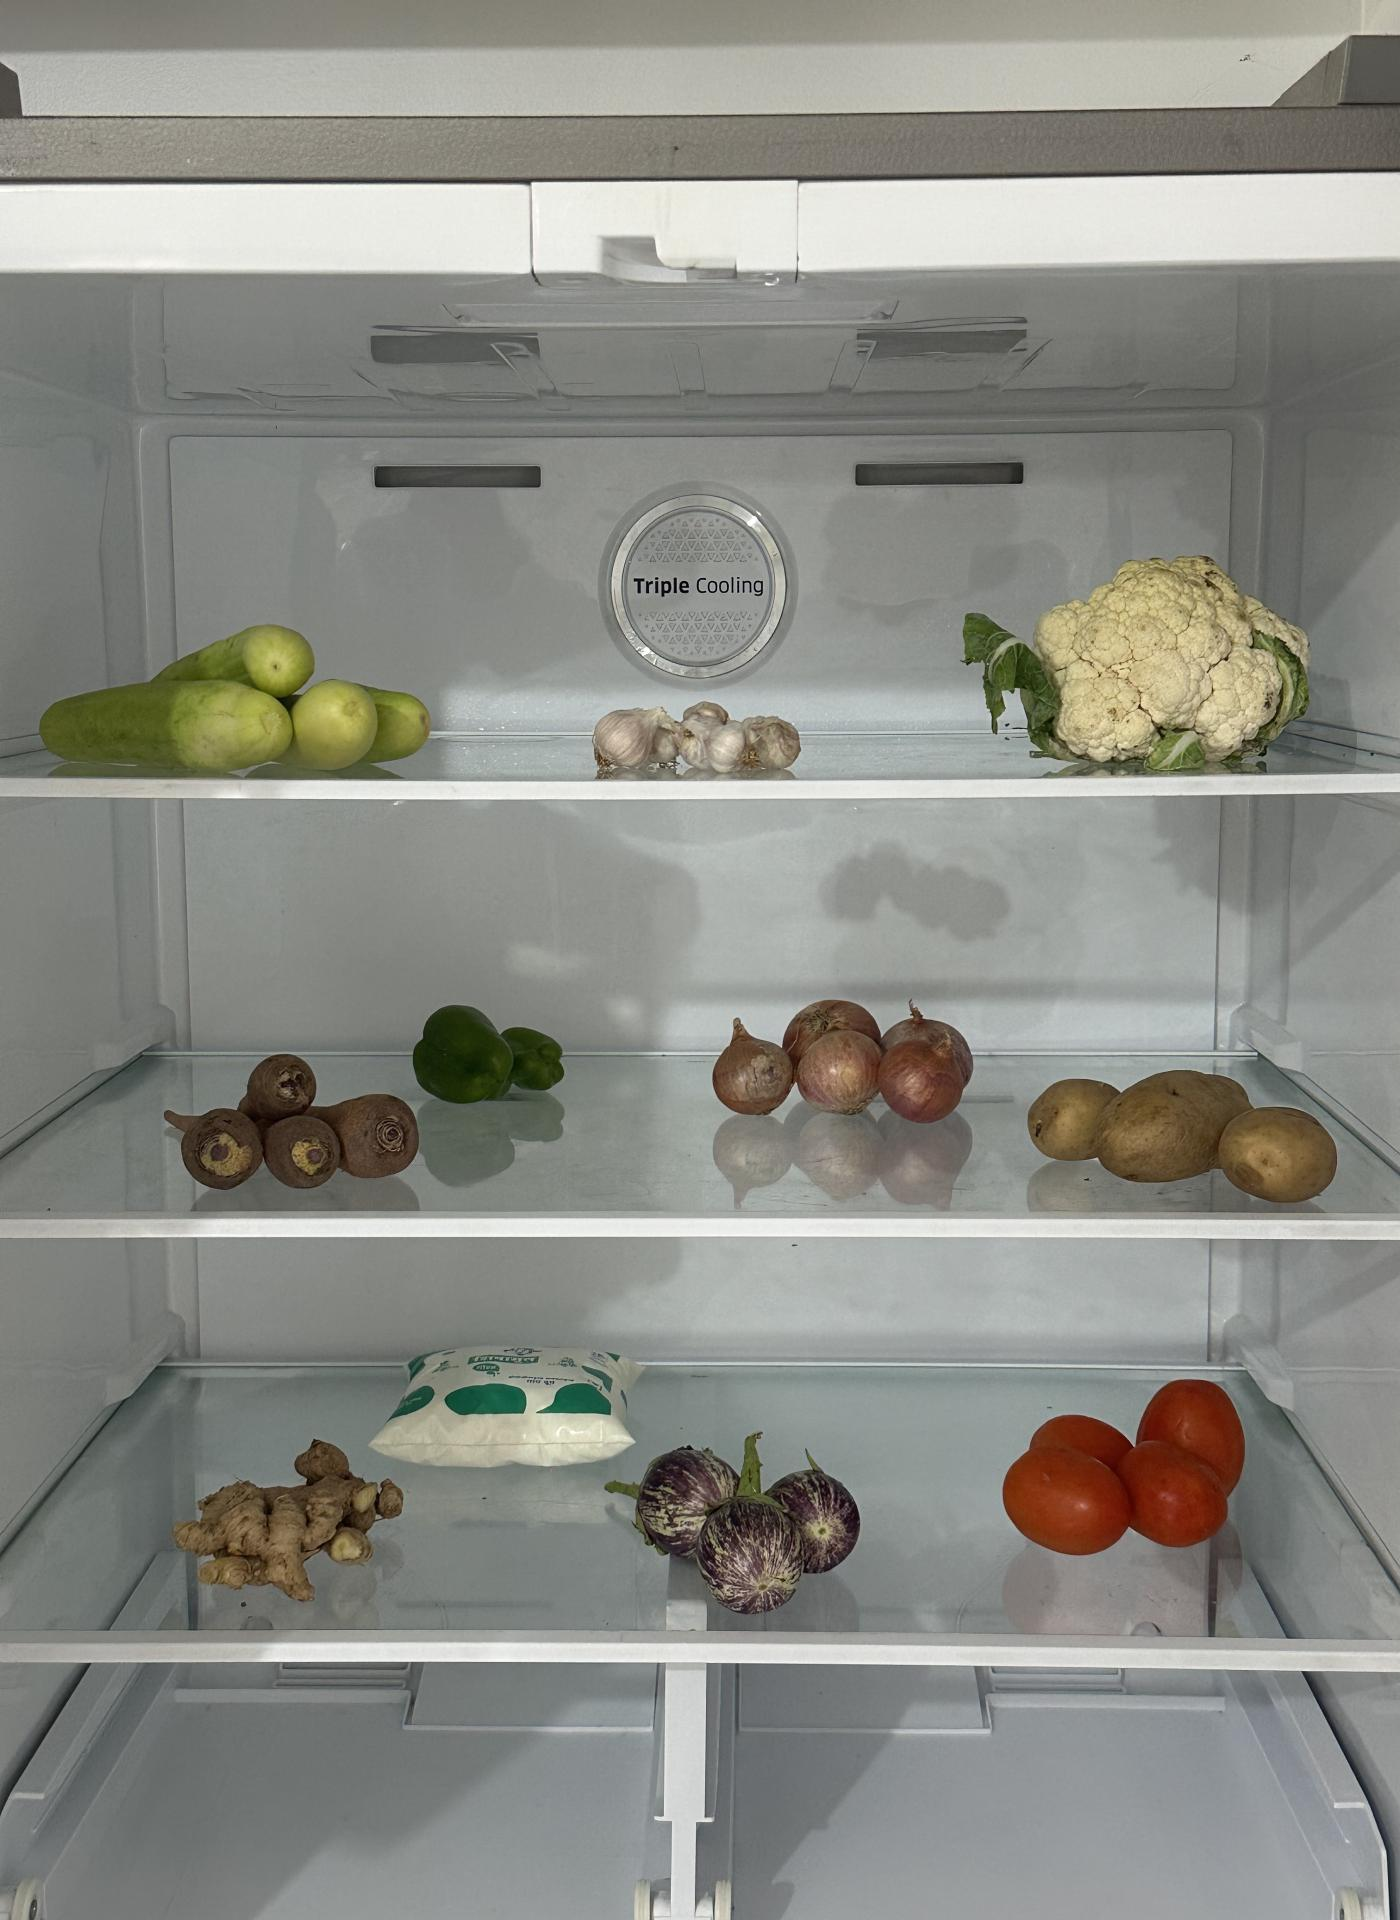capsicum: (407, 994, 568, 1105)
carrots: (173, 1045, 423, 1196)
cauliflower: (1015, 546, 1311, 766)
cucumber: (33, 617, 428, 775)
garlic: (584, 695, 811, 775)
ginger: (170, 1439, 404, 1602)
milk: (382, 1340, 638, 1465)
onion: (707, 990, 972, 1121)
potato: (1026, 1066, 1336, 1204)
tomato: (1003, 1376, 1246, 1550)
